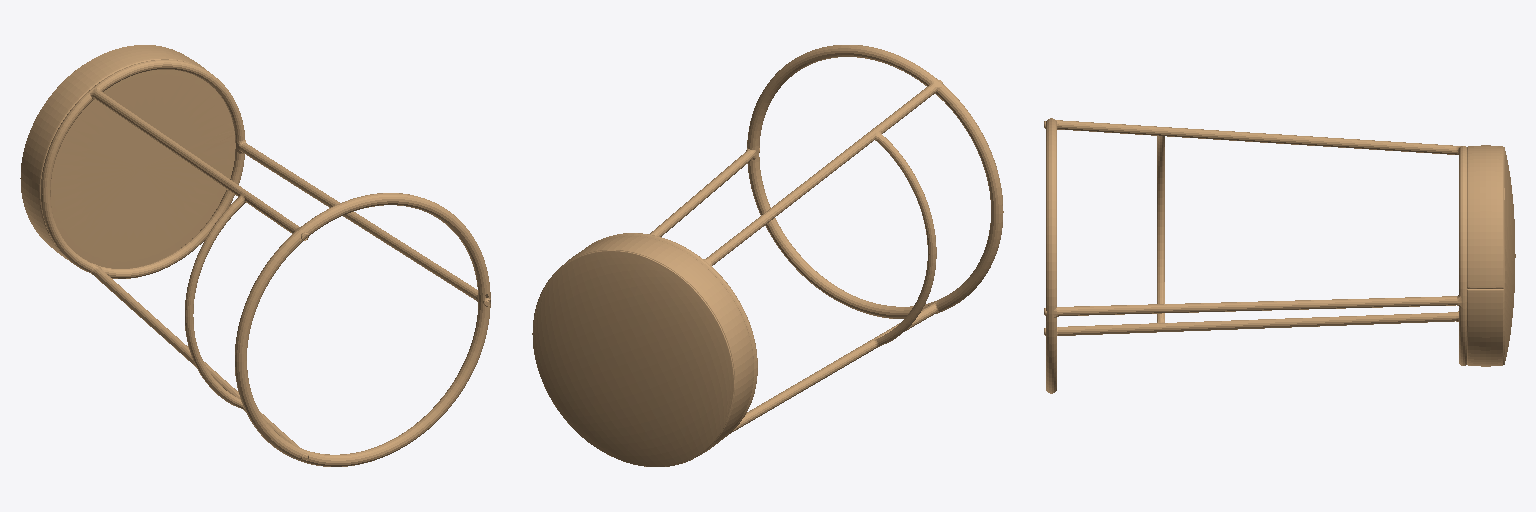
URDF robot description (barstool):
<?xml version="1.0" ?>
<robot name="barstool">
  <link name="baseLink">
    <visual>
      <origin rpy="0 0 0" xyz="0 0 0"/>
      <geometry>
        <mesh filename="barstool.obj" scale="1.0 1.0 1.0"/>
      </geometry>
       <material name="lightbrown">
        <color rgba="0.8 0.66 0.5 1"/>
      </material>
    </visual>

    <collision>
      <origin rpy="0 0 0" xyz="0 0 0"/>
      <geometry>
        <mesh filename="barstool.obj" scale="1.0 1.0 1.0"/>
      </geometry>
    </collision>

    <inertial>
      <origin rpy="0 0 0" xyz="0 0 0"/>
      <mass value="0.0"/>
      <inertia ixx="0" ixy="0" ixz="0" iyy="0" iyz="0" izz="0"/>
    </inertial>
  </link>
</robot>

--- What the picture shows (computed from the rendered views, not written in the file) ---
Views: 3 orthographic renders of the robot side by side, from view 1: azimuth 30°, elevation 25°; view 2: azimuth 150°, elevation 25°; view 3: azimuth 270°, elevation 25°.
Model barstool with 1 links and 0 joints (none), rooted at baseLink, posed every joint at zero.
Links seen in each view (by area): view 1: baseLink; view 2: baseLink; view 3: baseLink.
Boxes of the visible links, bbox=[...] form: baseLink: bbox=[20, 45, 490, 466]; baseLink: bbox=[532, 45, 1003, 466]; baseLink: bbox=[1044, 118, 1515, 393].
Bounding box of the posed robot: 0.4687 × 0.8007 × 0.4687 m (x, y, z).
1 mesh visuals loaded from 1 distinct referenced files (1 OBJ).